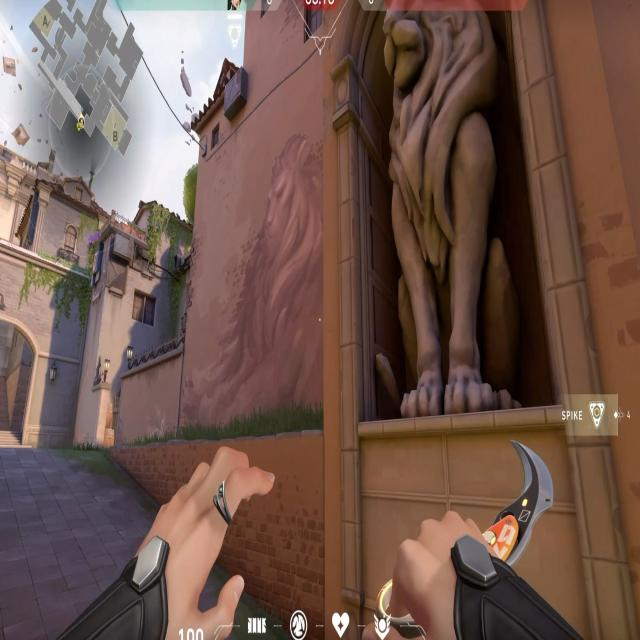Lion_Corner: (328, 0, 584, 431)
